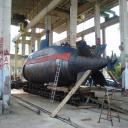submarine: (25, 30, 111, 88)
